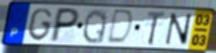D: (105, 9, 135, 47)
G: (26, 7, 54, 43)
N: (164, 12, 193, 47)
P: (48, 6, 82, 44)
Q: (81, 8, 109, 46)
T: (145, 10, 167, 47)
